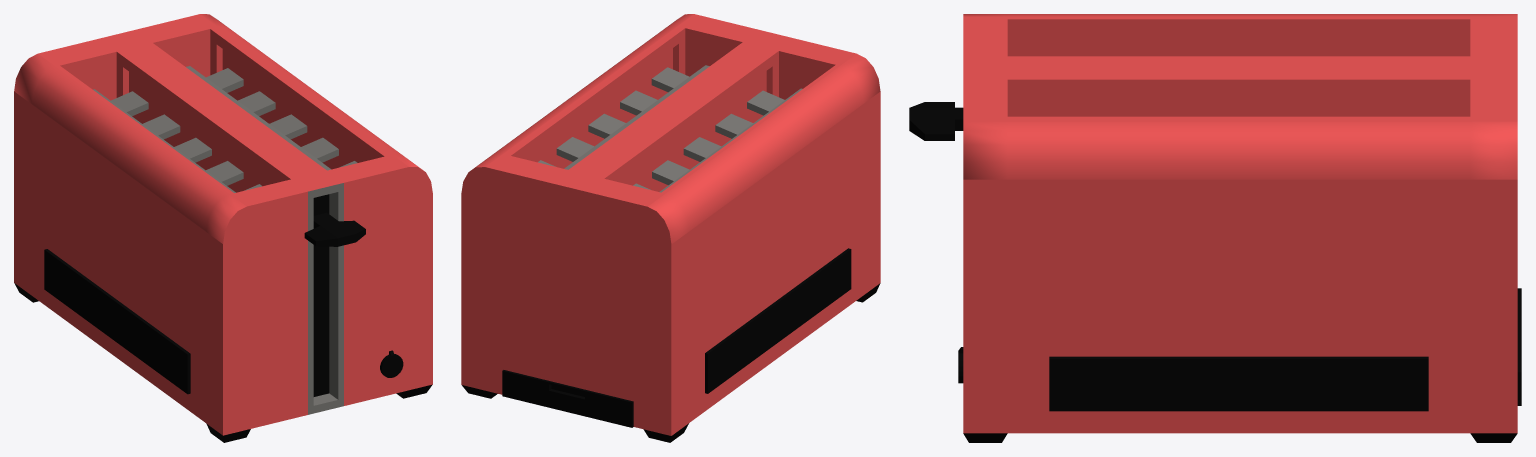
The model's file is _oaster.fbx.
3 renders of one model, left to right at view 1: azimuth 30°, elevation 25°; view 2: azimuth 150°, elevation 25°; view 3: azimuth 270°, elevation 25°, orthographic. The views are drawn at different scales.
Parts seen in each view (by area): view 1: Cube.154; view 2: Cube.154; view 3: Cube.154.
Part boxes in pixels (x1,y1,x2,y2): Cube.154: (14, 14, 432, 442); Cube.154: (461, 14, 880, 442); Cube.154: (909, 14, 1521, 442).
Size of the model in its own units: 20.08 by 20.61 by 37.06.
